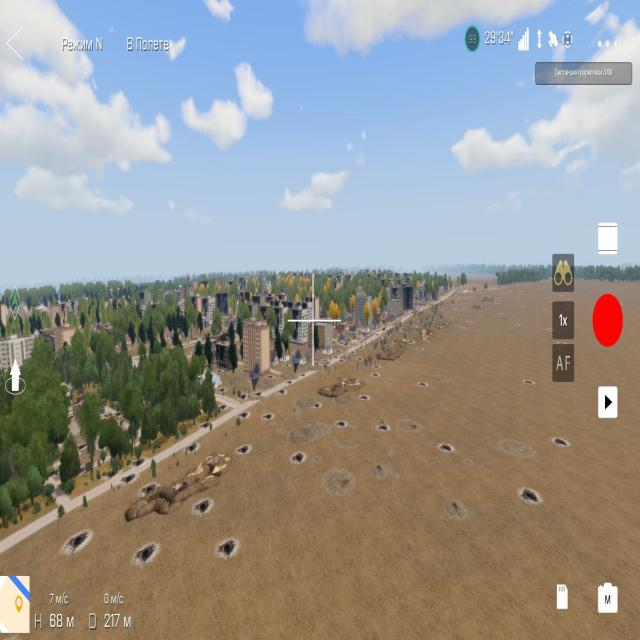fortification: (115, 447, 235, 537), (237, 296, 281, 386), (275, 299, 309, 357), (321, 362, 357, 410), (344, 286, 376, 328), (302, 313, 340, 348), (210, 335, 237, 376)
